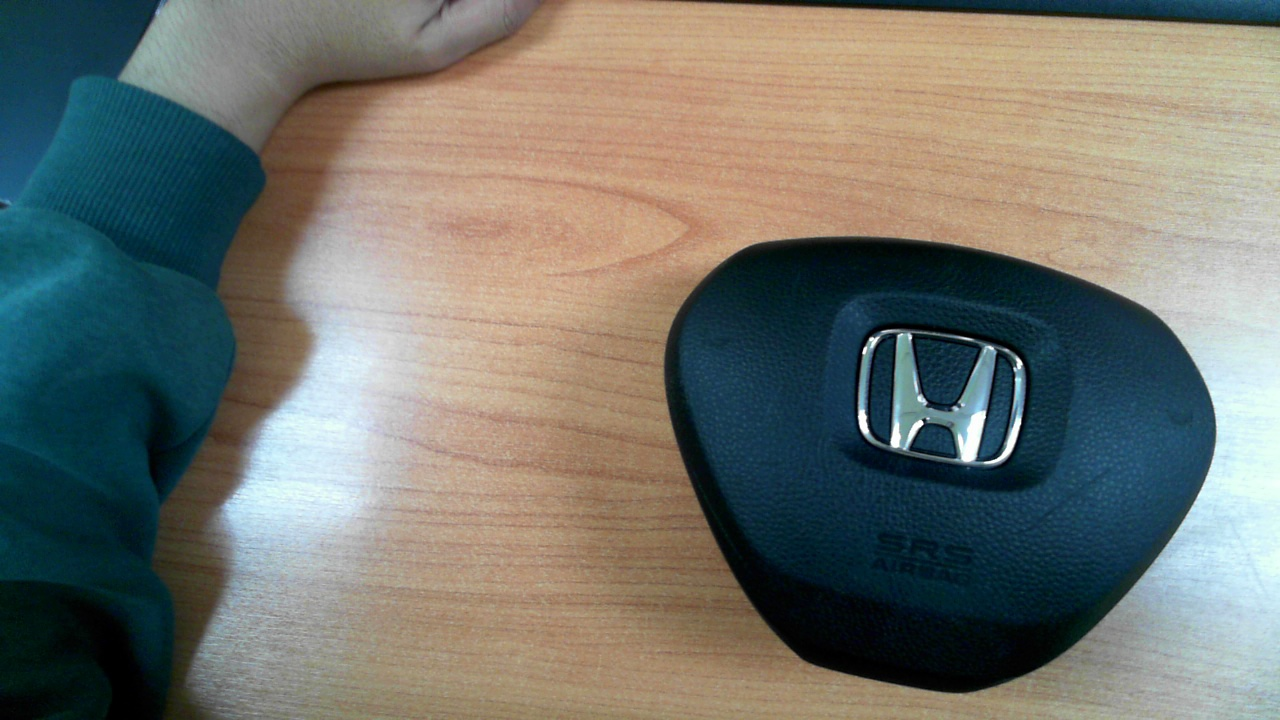Airbag: (664, 236, 1217, 694)
Honda: (856, 328, 1027, 470)
